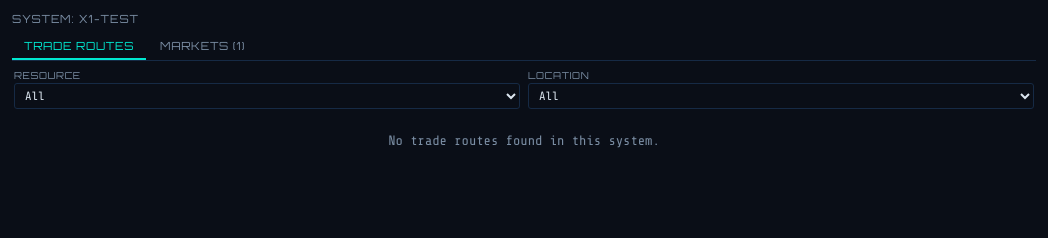
TradeRoutesWindow › shows markets view with exports/imports/exchange
Click the button "Markets (1)" at point(203, 47), box left=148, top=34, right=257, bottom=60
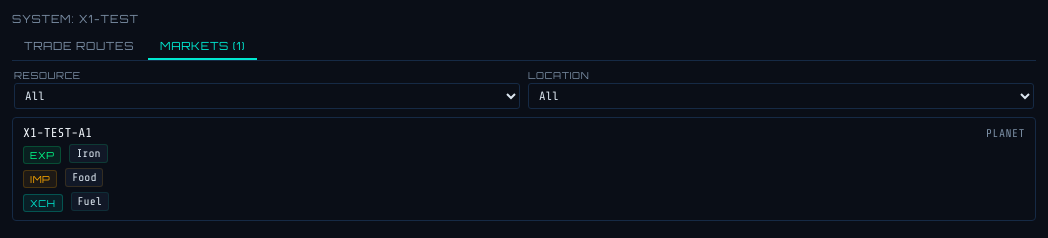
Expected: the text "X1-TEST-A1" is shown, left=23, top=126, right=92, bottom=140
Expected: the text "EXP" is shown, left=23, top=146, right=62, bottom=164
Expected: the text "IMP" is shown, left=23, top=170, right=57, bottom=188
